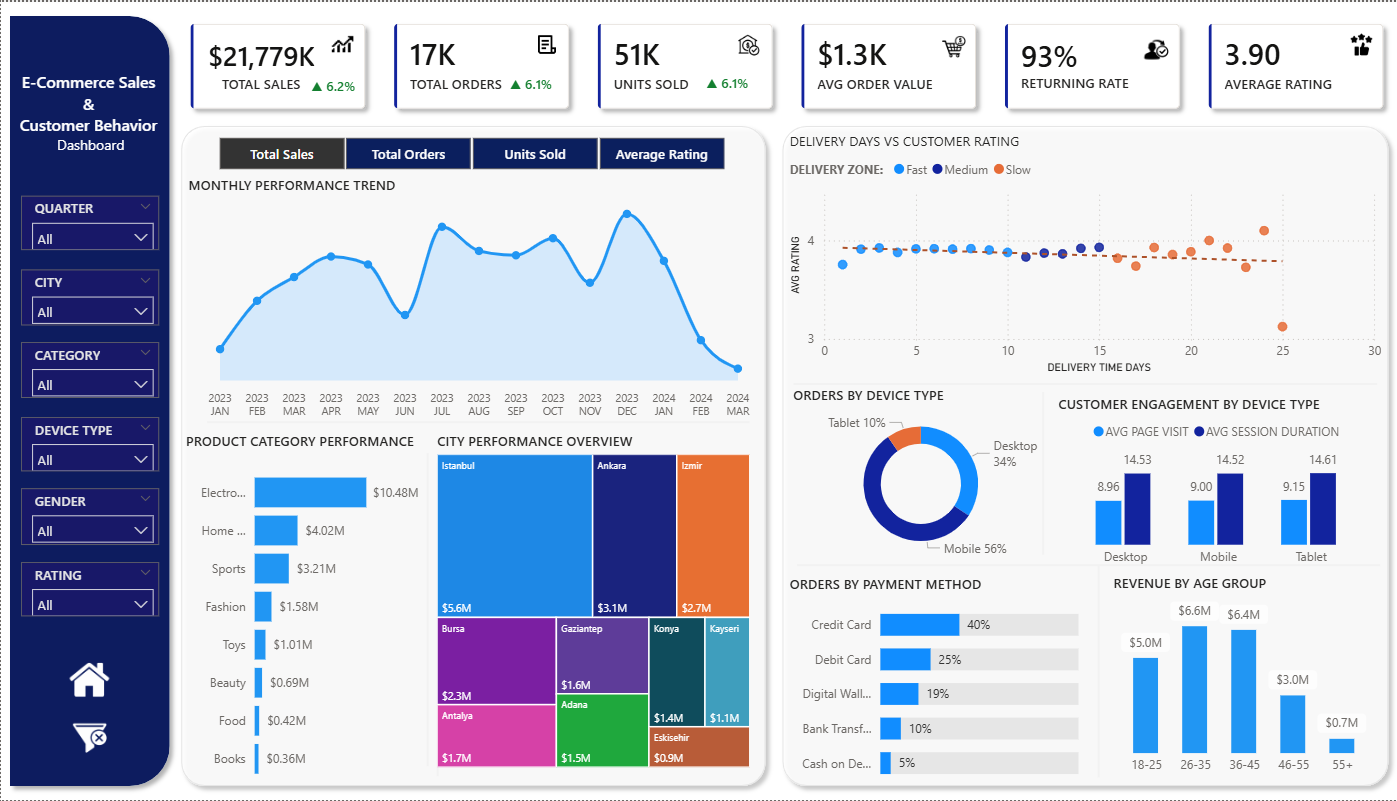

What the dashboard file says about the page in this screenshot:
{"tool":"powerbi","page":{"name":"Sales Overview","canvas":[1400,800],"ordinal":0},"visuals":[{"type":"shape","box":[1.4,8.2,167.1,784],"z":0},{"type":"shape","box":[169.8,161.7,603.3,320.7],"z":2000},{"type":"shape","box":[171.2,481,548.9,319.3],"z":3000},{"type":"shape","box":[771.7,160.6,627.7,322],"z":4000},{"type":"textbox","box":[1.4,20.4,169.8,130.4],"z":5000},{"type":"lineChart","title":"MONTHLY PERFORMANCE TREND","fields":{"Y":["ecommerce_customer_behavior_dataset.Total Sales"],"Category":["date_table.Year Month"]},"box":[183.4,183.4,577.4,284],"z":6000},{"type":"clusteredBarChart","title":"PRODUCT CATEGORY PERFORMANCE","fields":{"Y":["ecommerce_customer_behavior_dataset.Total Sales"],"Category":["ecommerce_customer_behavior_dataset.Product_Category"]},"box":[789.4,183.7,587,290.8],"z":7000},{"type":"clusteredColumnChart","title":"CITY PERFORMANCE OVERVIEW","fields":{"Y":["ecommerce_customer_behavior_dataset.Total Sales"],"Category":["ecommerce_customer_behavior_dataset.City"]},"box":[183.4,500,536.7,289.4],"z":8000},{"type":"slicer","fields":{"Values":["Parameter.Parameter"]},"box":[0,328.8,169.8,191.6],"z":9000},{"type":"shape","box":[720.1,481,679.4,319.3],"z":10000},{"type":"tableEx","fields":{"Values":["date_table.Year Month","ecommerce_customer_behavior_dataset.Total Sales","ecommerce_customer_behavior_dataset.Sales growth %","ecommerce_customer_behavior_dataset.Total Orders","ecommerce_customer_behavior_dataset.Orders growth %","ecommerce_customer_behavior_dataset.Units Sold","ecommerce_customer_behavior_dataset.UnitSold growth %"]},"box":[735.1,500,649.5,285.3],"z":11000},{"type":"shape","box":[171.2,31.3,402.2,131.8],"z":12000},{"type":"shape","box":[582.9,31.6,402.2,131.8],"z":13000},{"type":"shape","box":[993.2,31.6,402.2,131.8],"z":14000},{"type":"pageNavigator","box":[10.9,150.8,150.8,148.1],"z":15000},{"type":"slicer","fields":{"Values":["date_table.Quarter"]},"box":[21.7,529.9,120.9,61.1],"z":16000},{"type":"cardVisual","fields":{"Data":["ecommerce_customer_behavior_dataset.Total Sales"]},"box":[171.2,42.1,201.1,118.2],"z":17000},{"type":"cardVisual","fields":{"Data":["ecommerce_customer_behavior_dataset.Last Month Sales"]},"box":[346.5,85.6,212,67.9],"z":18000},{"type":"cardVisual","fields":{"Data":["ecommerce_customer_behavior_dataset.Sales growth %"]},"box":[394,51.6,116.8,58.4],"z":19000},{"type":"cardVisual","fields":{"Data":["ecommerce_customer_behavior_dataset.Total Orders"]},"box":[588.3,35.4,201.1,118.2],"z":20000},{"type":"cardVisual","fields":{"Data":["ecommerce_customer_behavior_dataset.Last Month Orders"]},"box":[756.8,85.6,212,67.9],"z":21000},{"type":"cardVisual","fields":{"Data":["ecommerce_customer_behavior_dataset.Orders growth %"]},"box":[804.4,50.3,116.8,58.4],"z":22000},{"type":"cardVisual","fields":{"Data":["ecommerce_customer_behavior_dataset.Units Sold"]},"box":[993.2,35.3,201.1,118.2],"z":23000},{"type":"cardVisual","fields":{"Data":["ecommerce_customer_behavior_dataset.Last Month Units"]},"box":[1176.6,85.6,212,67.9],"z":24000},{"type":"cardVisual","fields":{"Data":["ecommerce_customer_behavior_dataset.UnitSold growth %"]},"box":[1226.9,53,116.8,58.4],"z":25000},{"type":"slicer","fields":{"Values":["ecommerce_customer_behavior_dataset.City"]},"box":[21.7,612.8,120.9,63.9],"z":26000},{"type":"slicer","fields":{"Values":["ecommerce_customer_behavior_dataset.Product_Category"]},"box":[23.1,697,120.9,64],"z":27000},{"type":"shape","box":[181.1,3,1208.3,32],"z":27500},{"type":"textbox","box":[611.4,0,524.5,50.3],"z":28000}]}

Visuals, with their boxes in screenshot pixels (x1, y1, x2, y2), scaled from the page's 1400x800 canvas onto the 1397x801 screenshot:
shape: 1/8/168/793
shape: 169/162/771/483
shape: 171/482/719/800
shape: 770/161/1396/483
textbox: 1/20/171/151
"MONTHLY PERFORMANCE TREND" lineChart: 183/184/759/468
"PRODUCT CATEGORY PERFORMANCE" clusteredBarChart: 788/184/1373/475
"CITY PERFORMANCE OVERVIEW" clusteredColumnChart: 183/501/719/790
slicer - Parameter.Parameter: 0/329/169/521
shape: 719/482/1396/800
tableEx - date_table.Year Month x ecommerce_customer_behavior_dataset.Total Sales: 734/501/1382/786
shape: 171/31/572/163
shape: 582/32/983/164
shape: 991/32/1392/164
pageNavigator: 11/151/161/299
slicer - date_table.Quarter: 22/531/142/592
cardVisual - ecommerce_customer_behavior_dataset.Total Sales: 171/42/372/161
cardVisual - ecommerce_customer_behavior_dataset.Last Month Sales: 346/86/557/154
cardVisual - ecommerce_customer_behavior_dataset.Sales growth %: 393/52/510/110
cardVisual - ecommerce_customer_behavior_dataset.Total Orders: 587/35/788/154
cardVisual - ecommerce_customer_behavior_dataset.Last Month Orders: 755/86/967/154
cardVisual - ecommerce_customer_behavior_dataset.Orders growth %: 803/50/919/109
cardVisual - ecommerce_customer_behavior_dataset.Units Sold: 991/35/1192/154
cardVisual - ecommerce_customer_behavior_dataset.Last Month Units: 1174/86/1386/154
cardVisual - ecommerce_customer_behavior_dataset.UnitSold growth %: 1224/53/1341/112
slicer - ecommerce_customer_behavior_dataset.City: 22/614/142/678
slicer - ecommerce_customer_behavior_dataset.Product_Category: 23/698/144/762
shape: 181/3/1386/35
textbox: 610/0/1133/50
